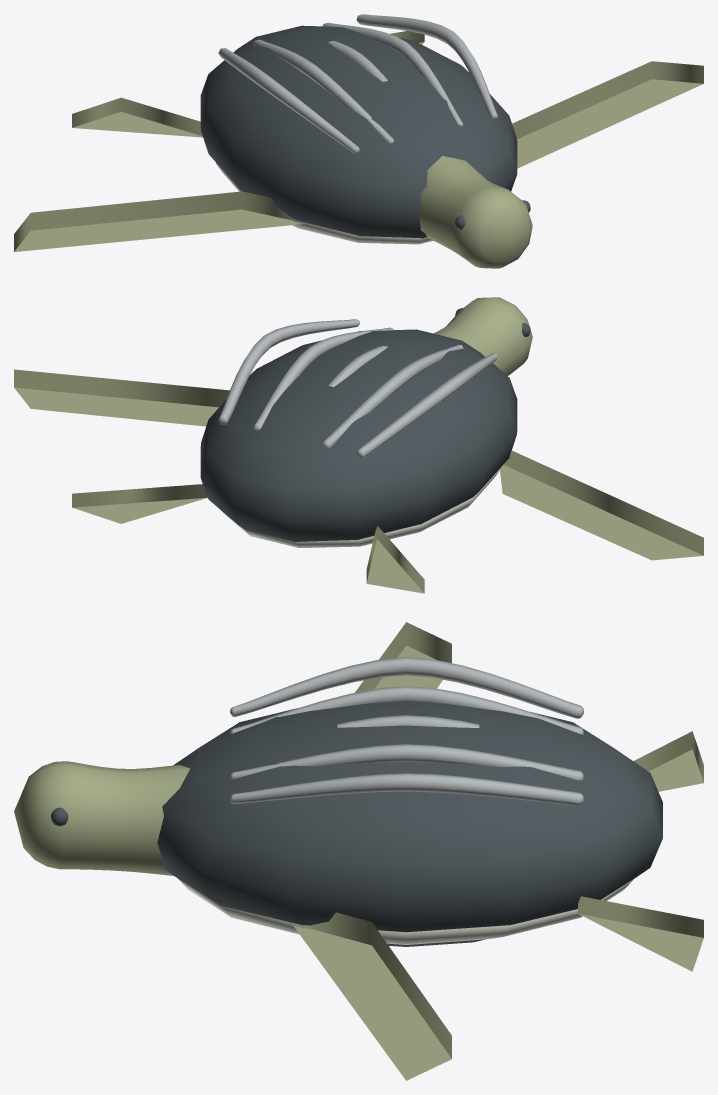
Rendered from open-ocean-and-deep-sea-life-leatherback-turtle-5a06e8a2__5883.glb.
3 views of the same model, one above another, from view 1: azimuth 30°, elevation 25°; view 2: azimuth 150°, elevation 25°; view 3: azimuth 270°, elevation 25° (orthographic). The views are drawn at different scales.
Parts seen in each view (by area): view 1: leatherback-turtle; view 2: leatherback-turtle; view 3: leatherback-turtle.
Boxes of the visible parts, bbox=[...] form: leatherback-turtle: bbox=[14, 14, 703, 268]; leatherback-turtle: bbox=[14, 297, 703, 593]; leatherback-turtle: bbox=[14, 622, 703, 1080].
Size of the model in its own units: 2.69 by 0.5808 by 1.8.
